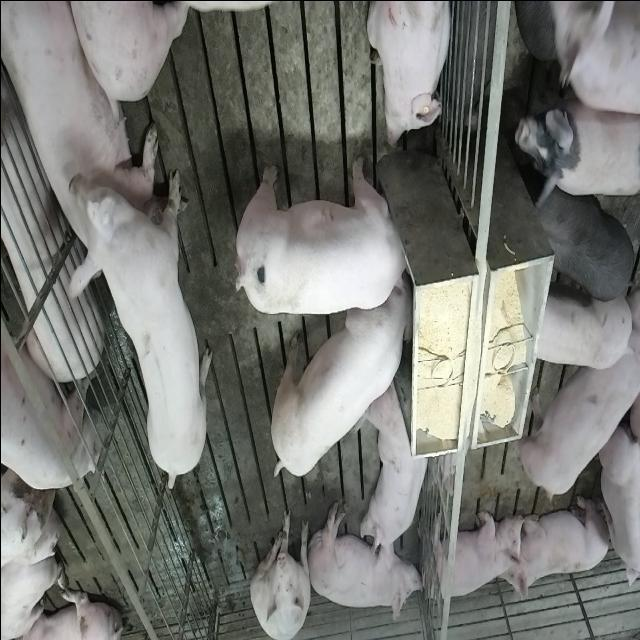Feeding: (264, 276, 412, 480), (240, 155, 417, 316)
Lateral_lying: (306, 498, 424, 624)
Sitting: (249, 505, 312, 639)
Standing: (64, 150, 212, 485), (512, 336, 638, 502), (0, 290, 97, 486), (514, 98, 638, 208), (530, 183, 636, 306), (545, 1, 637, 120), (531, 288, 633, 371)
Sternal_lying: (0, 5, 149, 272), (362, 381, 432, 570), (366, 0, 454, 150), (508, 490, 612, 601), (424, 504, 522, 604)
